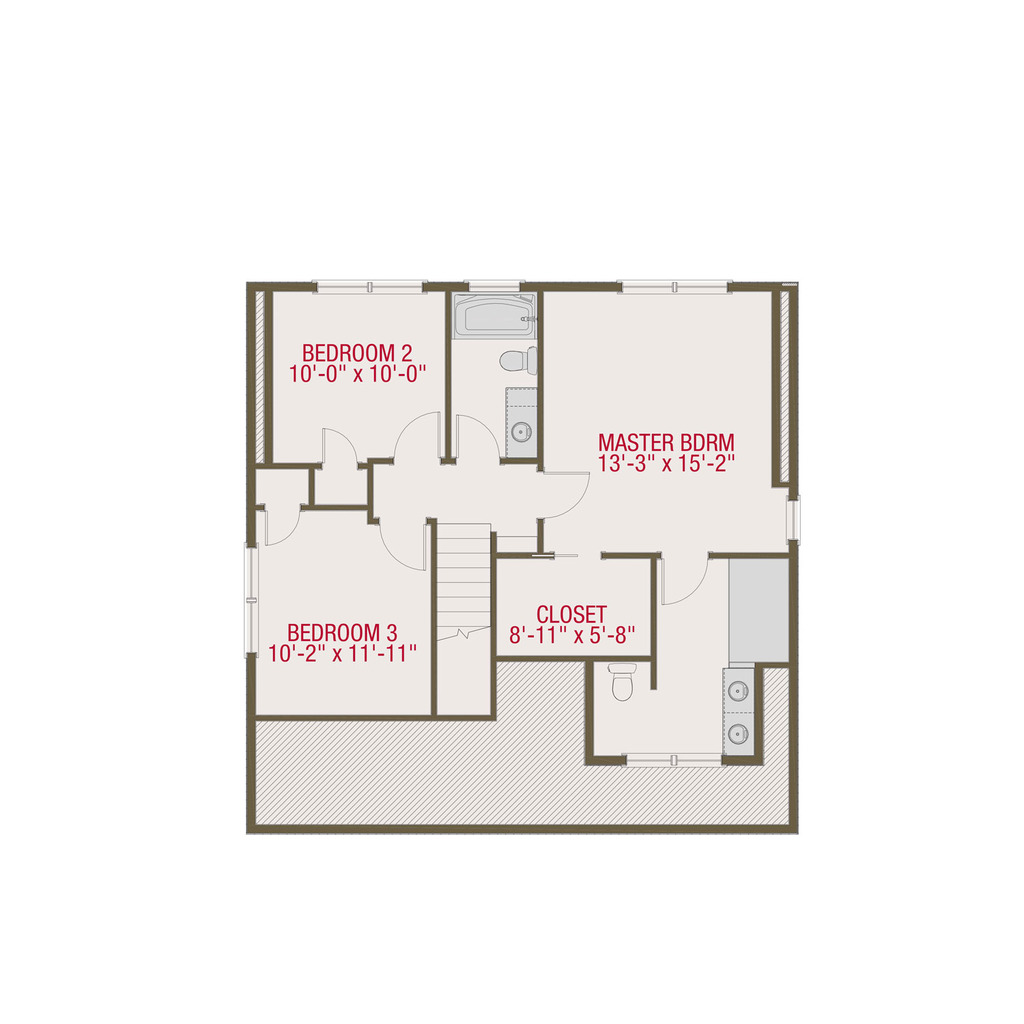door: (542, 463, 613, 528), (375, 513, 434, 574), (658, 549, 722, 605), (394, 411, 447, 469), (259, 491, 306, 552), (453, 411, 506, 463), (319, 422, 367, 472)
large_sink: (589, 655, 650, 710), (498, 344, 552, 383)
small_sink: (709, 669, 755, 755), (503, 399, 541, 458)
stairs: (423, 517, 498, 716)
tub: (453, 297, 544, 346)
window: (622, 274, 734, 299), (311, 275, 427, 299), (245, 546, 263, 646), (628, 750, 725, 766)
